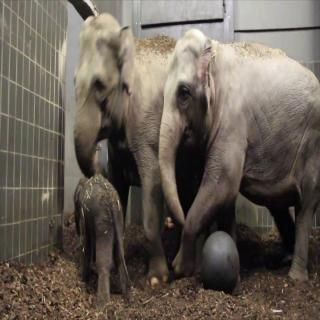Elephant: (72, 10, 237, 288), (158, 29, 320, 300), (70, 170, 136, 312)
